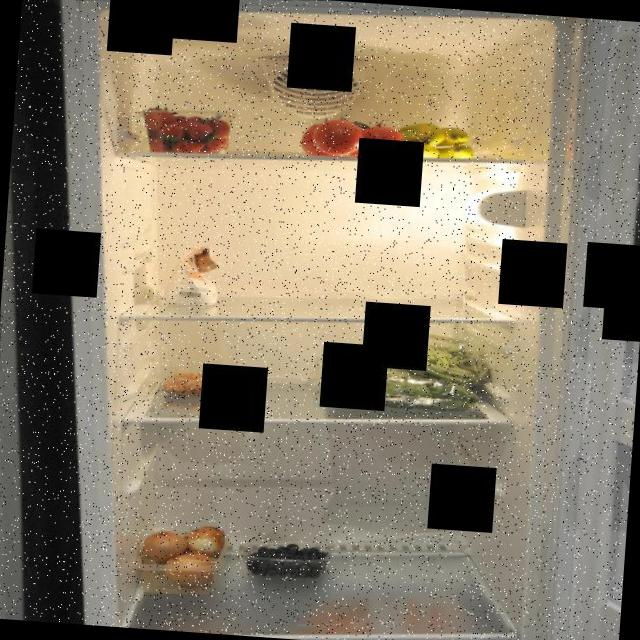Cebolla: (137, 516, 225, 590)
Gambas/Langostinos: (162, 364, 240, 400)
Plátano: (394, 118, 481, 166)
Tomate: (295, 104, 408, 166)
blueberries: (244, 536, 336, 582)
flour: (157, 238, 226, 310)
green_beans: (323, 321, 496, 392)
spinach: (310, 333, 495, 420)
strawberries: (134, 97, 242, 159)
